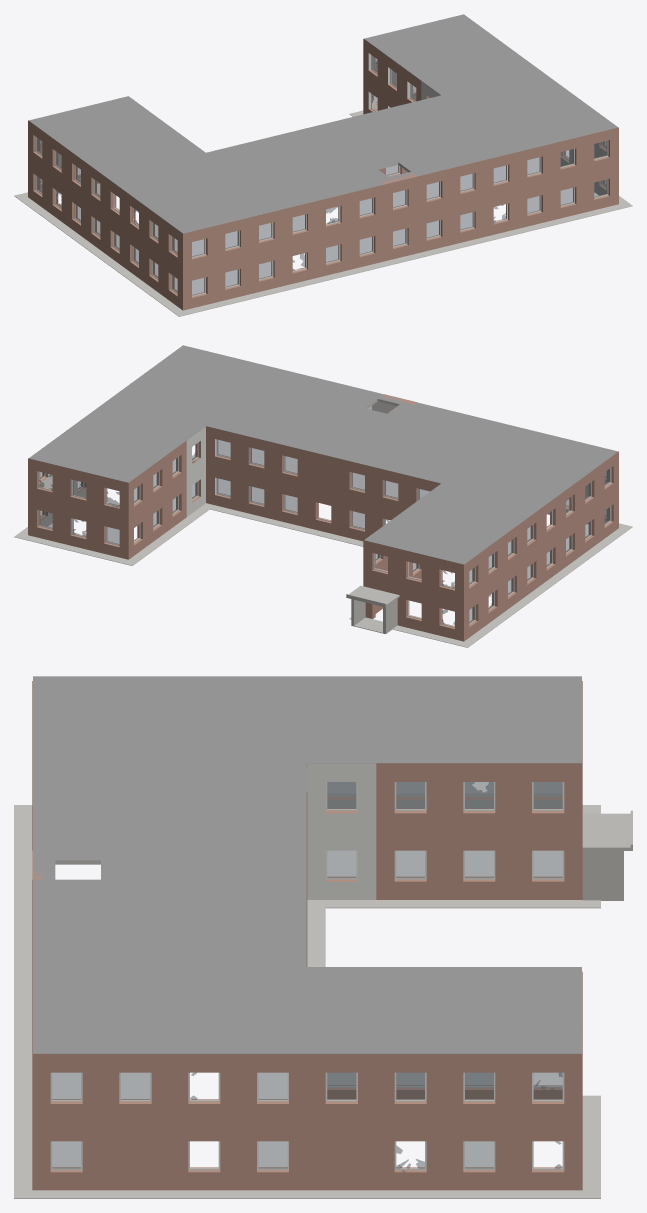
The picture shows the model from 3 angles, top to bottom: view 1: azimuth 30°, elevation 25°; view 2: azimuth 150°, elevation 25°; view 3: azimuth 270°, elevation 25°; orthographic projection. The views are drawn at different scales.
Parts seen in each view (by area): view 1: b7_lod1_slab__roof, b7_lod1_outer__brick_facade, b7_lod1_glass, b7_lod1_apron, b7_lod1_windows, b7_lod1_outer__wall_room, b7_lod1_slab__slab_edge; view 2: b7_lod1_slab__roof, b7_lod1_outer__brick_facade, b7_lod1_glass, b7_lod1_apron, b7_lod1_windows, b7_lod1_outer__wall_room, b7_lod1_porch__monolith, b7_lod1_canopy__monolith, b7_lod1_slab__slab_edge; view 3: b7_lod1_slab__roof, b7_lod1_outer__brick_facade, b7_lod1_apron, b7_lod1_glass, b7_lod1_outer__wall_room, b7_lod1_windows, b7_lod1_porch__monolith, b7_lod1_canopy__monolith, b7_lod1_slab__slab_edge.
Boxes of the visible parts, box(x1,y1,x2,y2) form: b7_lod1_slab__roof: box(29, 14, 617, 233); b7_lod1_outer__brick_facade: box(28, 39, 618, 310); b7_lod1_glass: box(36, 56, 607, 295); b7_lod1_apron: box(14, 110, 632, 316); b7_lod1_windows: box(35, 55, 608, 296); b7_lod1_outer__wall_room: box(40, 53, 606, 195); b7_lod1_slab__slab_edge: box(29, 39, 617, 233); b7_lod1_slab__roof: box(29, 345, 617, 564); b7_lod1_outer__brick_facade: box(28, 394, 618, 641); b7_lod1_glass: box(39, 406, 610, 625); b7_lod1_apron: box(14, 503, 632, 647); b7_lod1_windows: box(38, 409, 611, 627); b7_lod1_outer__wall_room: box(40, 401, 606, 526); b7_lod1_porch__monolith: box(351, 599, 397, 633); b7_lod1_canopy__monolith: box(346, 585, 399, 607); b7_lod1_slab__slab_edge: box(29, 399, 617, 564); b7_lod1_slab__roof: box(33, 676, 581, 1053); b7_lod1_outer__brick_facade: box(32, 681, 582, 1190); b7_lod1_apron: box(14, 805, 600, 1198); b7_lod1_glass: box(52, 782, 562, 1172); b7_lod1_outer__wall_room: box(306, 763, 562, 899); b7_lod1_windows: box(50, 782, 564, 1170); b7_lod1_porch__monolith: box(582, 851, 623, 900); b7_lod1_canopy__monolith: box(582, 810, 632, 850); b7_lod1_slab__slab_edge: box(33, 763, 581, 1053).
Bounding box in the file's own units: 40.6 × 6.6 × 27.
